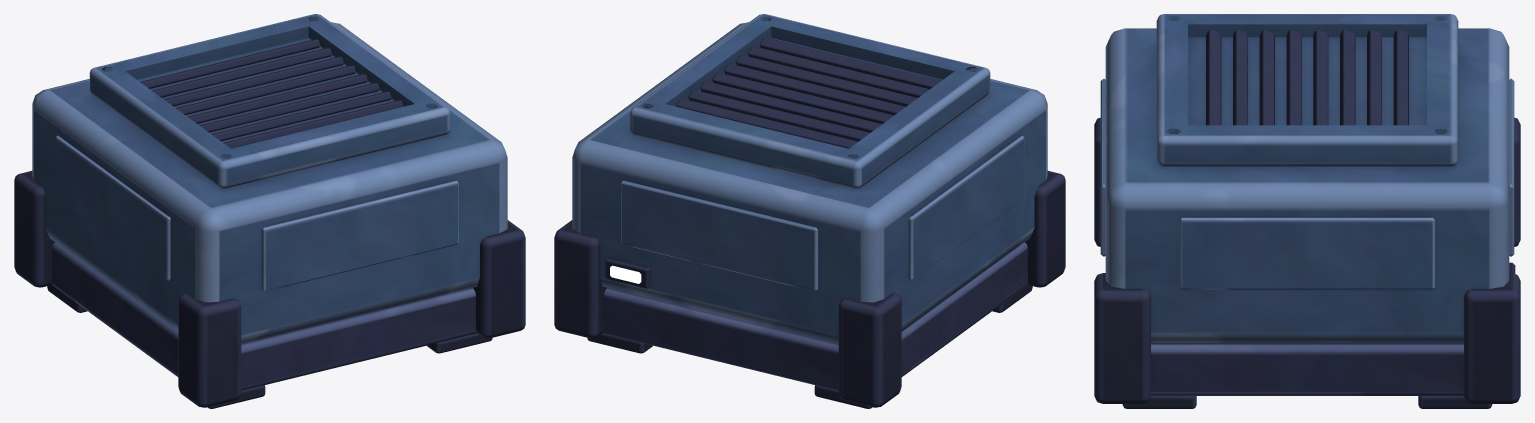
File: bg_claude_service_s01_vent.glb
The picture shows the model from 3 angles, left to right: view 1: azimuth 30°, elevation 25°; view 2: azimuth 150°, elevation 25°; view 3: azimuth 270°, elevation 25°; orthographic projection. The views are drawn at different scales.
Parts seen in each view (by area): view 1: vent; view 2: vent; view 3: vent.
Boxes of the visible parts, x1,y1,x2,y2 form: vent: (14,14,525,408); vent: (554,14,1065,408); vent: (1094,14,1520,408).
Bounding box in the file's own units: 1.5 × 1 × 1.5.
Materials: 1 (1 with a texture image).
